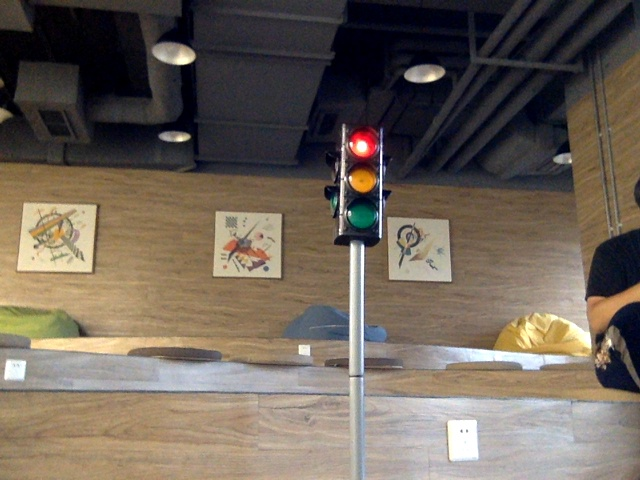red: (343, 127, 378, 234)
